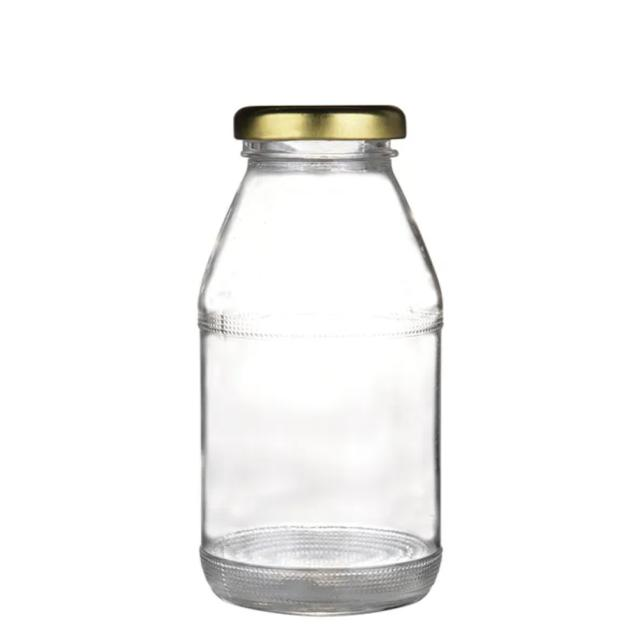recyclable: (175, 140, 475, 624)
